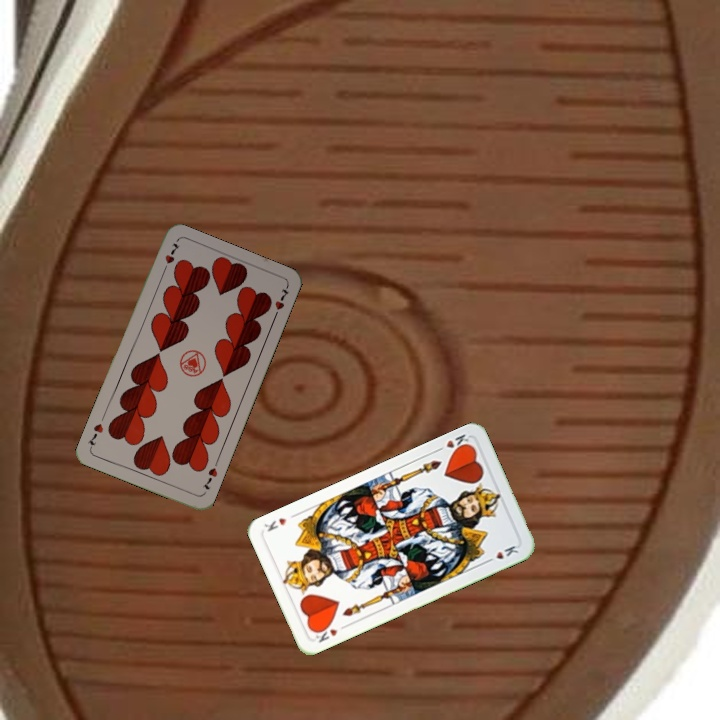H7: (158, 239, 182, 276), (198, 464, 220, 492)
HK: (432, 430, 474, 456), (308, 620, 349, 645)
